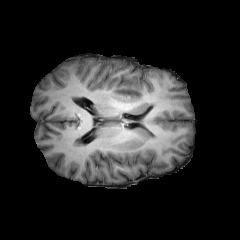glioma: (111, 72, 153, 106)
